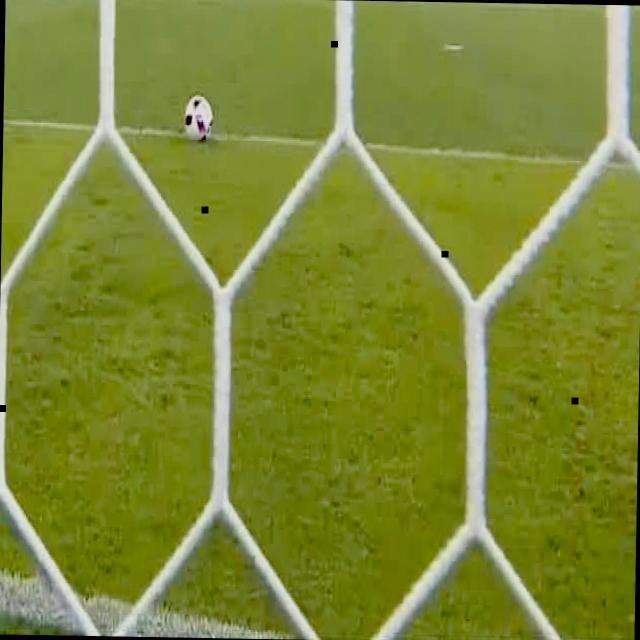ball: (185, 92, 213, 146)
